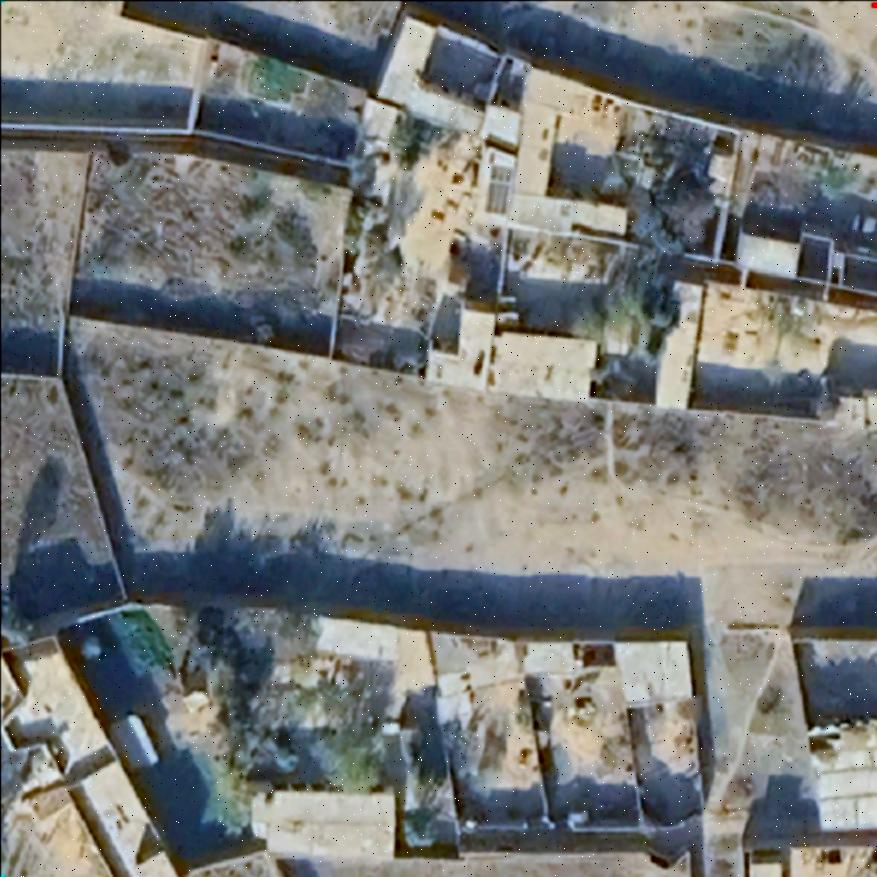Solarpanel: (483, 160, 515, 216)
